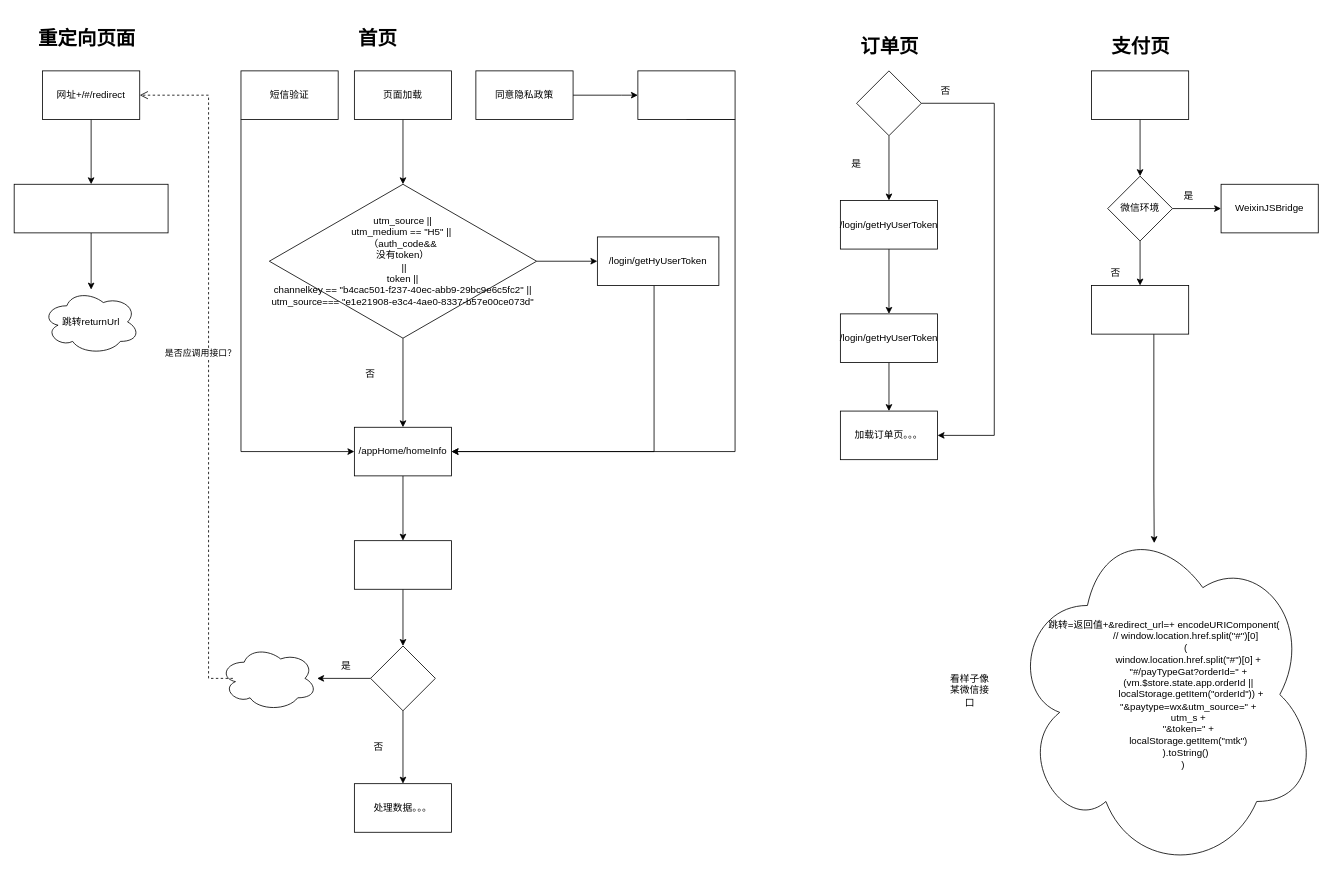
This 1332x887 diagram has some shape labels left out. The centre of each missing label's shape, as x and y in pixels:
/appLog/setLog: the point at 403,564
/callback/wxAuthorizeCallBackV2: the point at 90,208
/login/agreeProtocol: the point at 686,94
/platform/wxpay: the point at 1140,309
authUrl: the point at 402,678
utm_source&& 没有token: the point at 888,103
微信支付: the point at 1140,94
跳转authUrl: the point at 268,678
